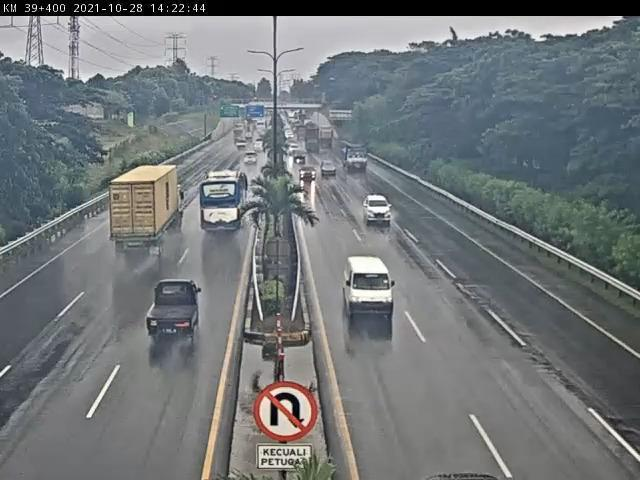bus: (200, 173, 251, 238)
car: (343, 254, 400, 317), (146, 280, 202, 343), (364, 193, 395, 226), (320, 160, 340, 179), (299, 165, 320, 181)
truck: (110, 167, 189, 256), (344, 143, 371, 172)
